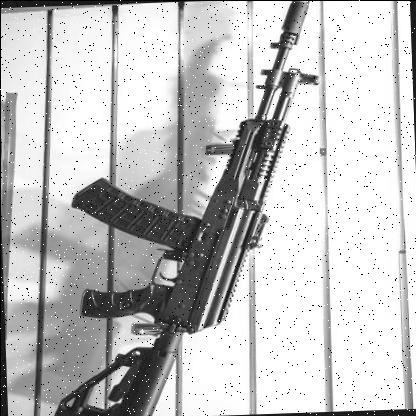rifle: (23, 0, 355, 416)
